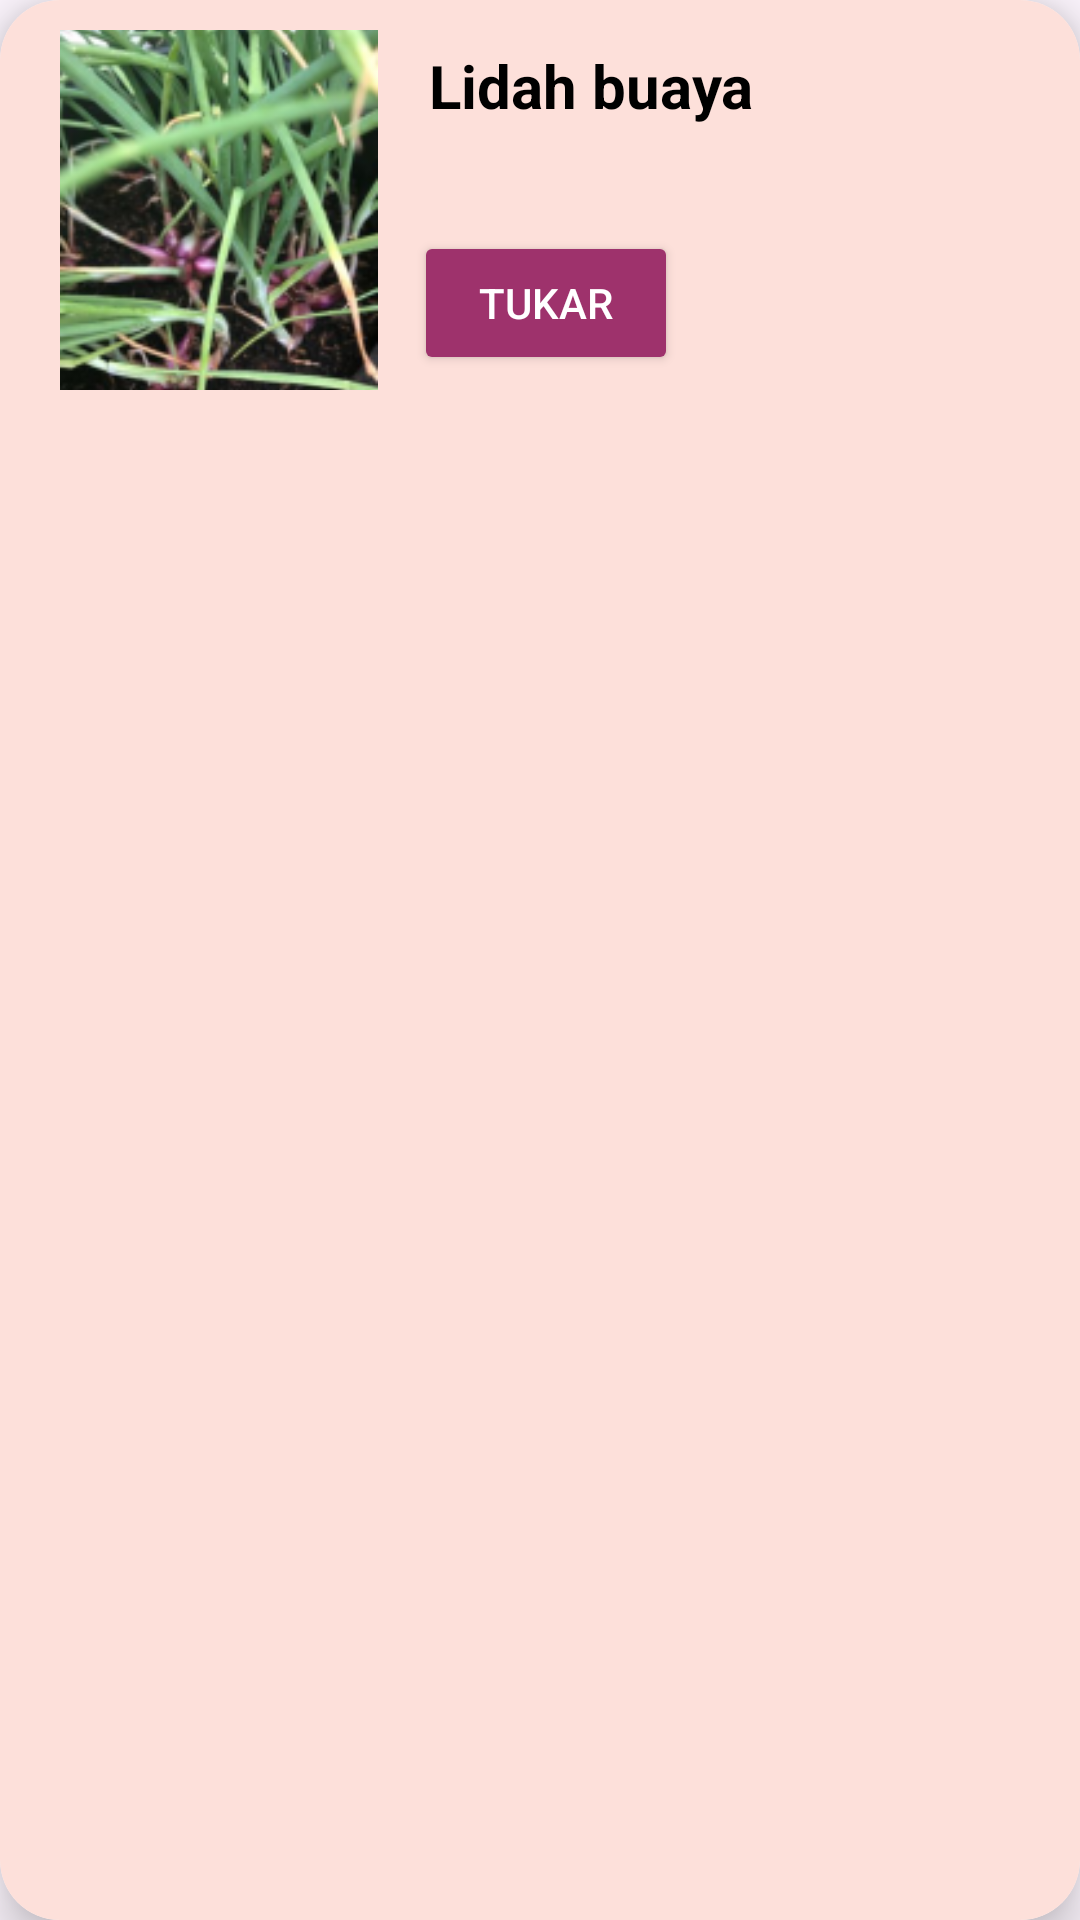

Named icons in this screenshot (1080px×1920px) and their centers, point (x, y):
bawang: point (219, 210)
